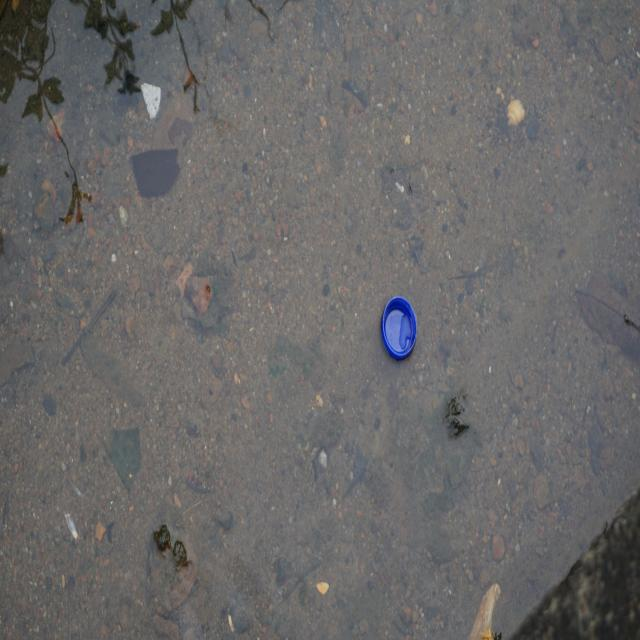Botol Plastik: (380, 291, 420, 367)
